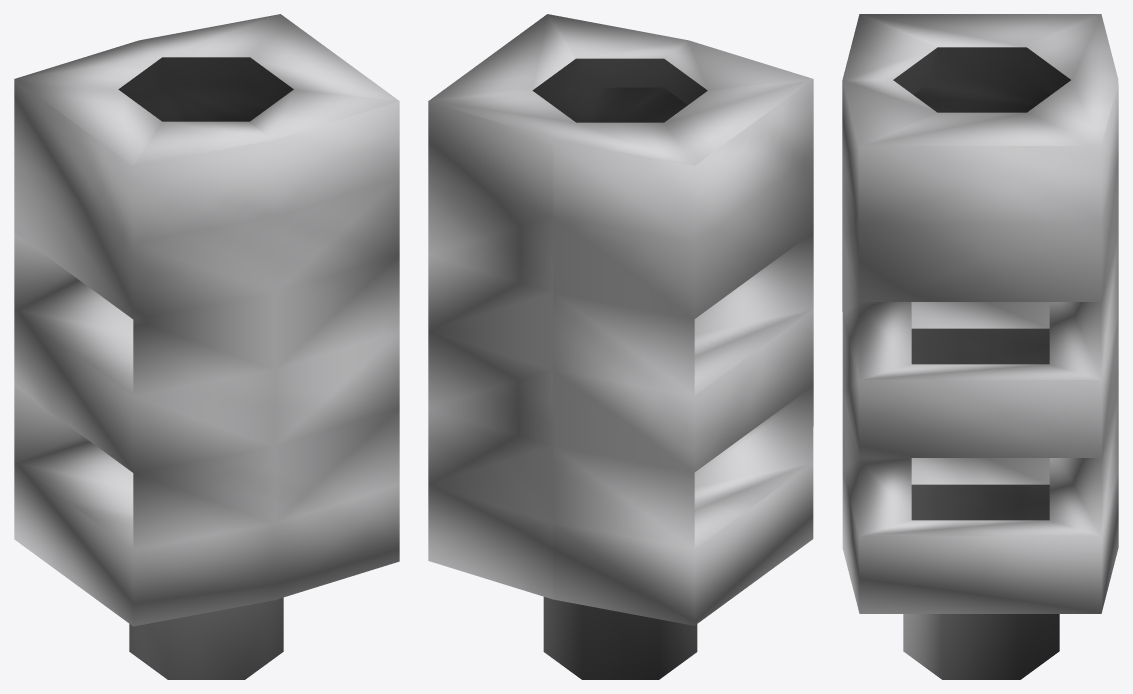
Rendered from TLOG_PipePistolMuzzleBrake.fbx.
The picture shows the model from 3 angles, left to right: view 1: azimuth 30°, elevation 25°; view 2: azimuth 150°, elevation 25°; view 3: azimuth 270°, elevation 25°; orthographic projection.
Visible parts, largest first — view 1: MetalPipe; view 2: MetalPipe; view 3: MetalPipe.
Boxes of the visible parts, x1,y1,x2,y2 form: MetalPipe: (14, 14, 399, 679); MetalPipe: (428, 14, 813, 679); MetalPipe: (842, 14, 1118, 679).
Size of the model in its own units: 0.0186 by 0.0375 by 0.0164.
